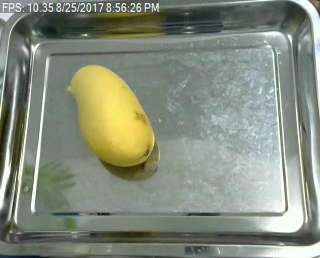Mango: (65, 63, 157, 169)
